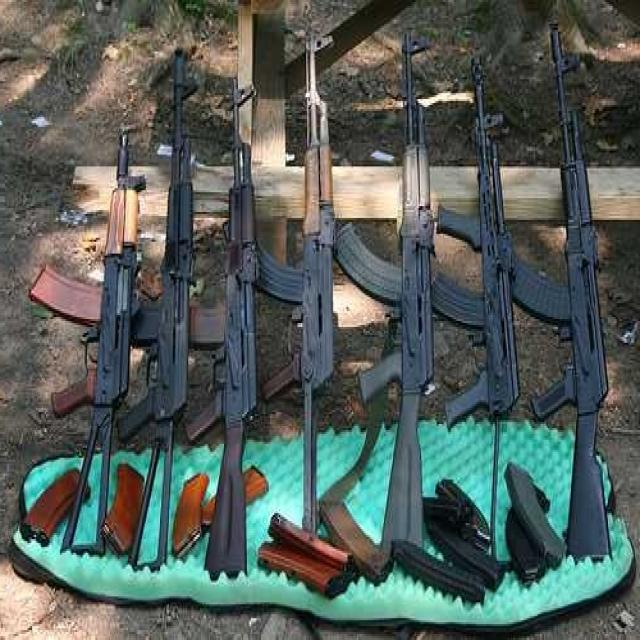heavyweapon: (503, 17, 615, 597), (29, 100, 152, 625), (246, 13, 368, 538), (335, 21, 444, 560), (178, 73, 284, 610), (430, 21, 521, 585), (117, 31, 201, 574)
